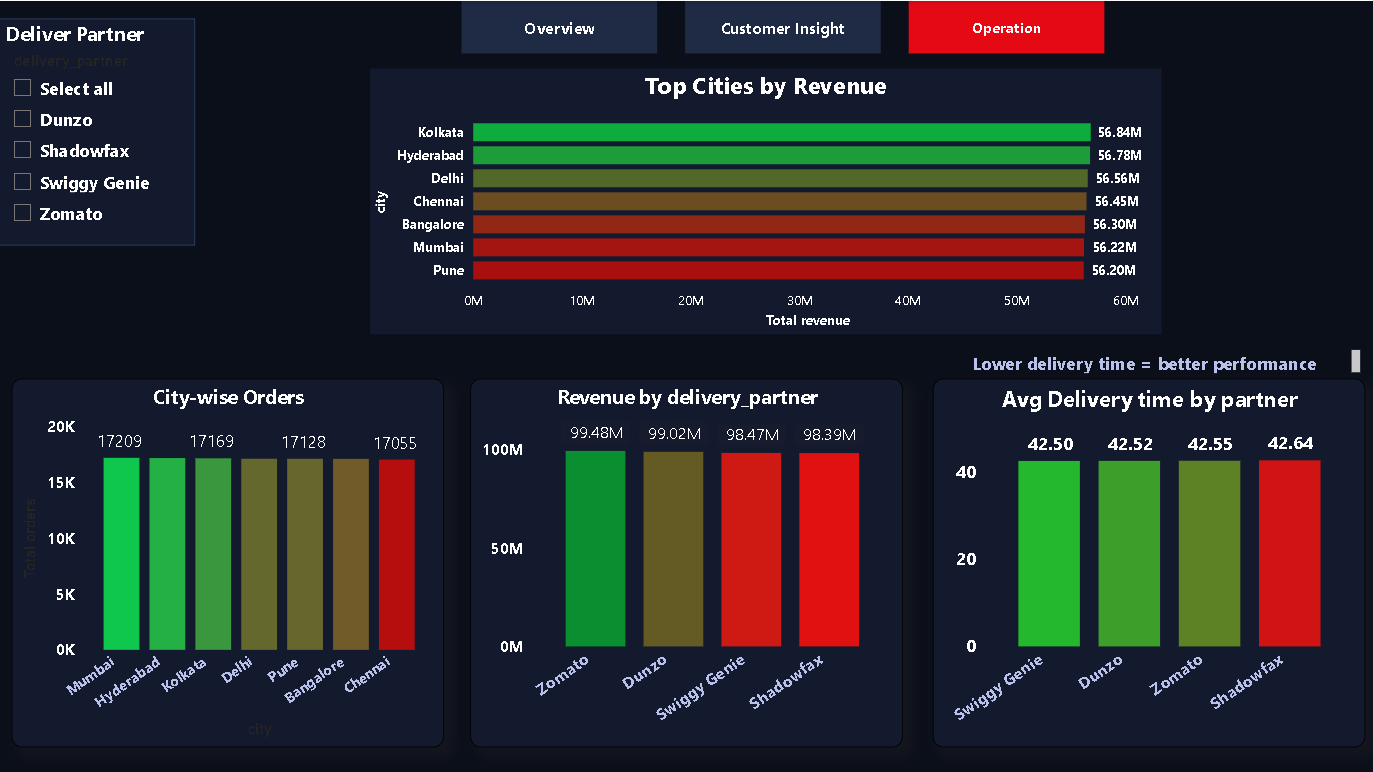

Layout of this report page (visuals, bound fields, positions):
{"tool":"powerbi","page":{"name":"Operation","canvas":[1280,720],"ordinal":2},"visuals":[{"type":"clusteredColumnChart","title":"Avg Delivery time by partner","fields":{"Category":["CleanOrders.delivery_partner"],"Y":["CleanOrders.Avg delivery"]},"box":[868.1,350.6,402.3,343.4],"z":0},{"type":"textbox","box":[868.1,319.4,402.3,31.2],"z":1000},{"type":"clusteredColumnChart","title":"Revenue by delivery_partner","fields":{"Category":["CleanOrders.delivery_partner"],"Y":["CleanOrders.Total revenue"]},"box":[438.3,350.6,402.3,343.4],"z":2000},{"type":"clusteredColumnChart","title":"City-wise Orders","fields":{"Category":["CleanOrders.city"],"Y":["CleanOrders.Total orders"]},"box":[12,350.6,402.3,343.4],"z":3000},{"type":"slicer","title":"Deliver Partner","fields":{"Values":["CleanOrders.delivery_partner"]},"box":[0,16.8,182.5,211.3],"z":4000},{"type":"pageNavigator","box":[429.9,0,599.2,49.2],"z":5000},{"type":"barChart","title":"Top Cities by Revenue","fields":{"Category":["CleanOrders.city"],"Y":["CleanOrders.Total revenue"]},"box":[345.8,62.4,736.1,247.4],"z":9000}]}

Visuals, with their boxes in screenshot pixels (x1, y1, x2, y2), scaled from the page's 1280x720 canvas onto the 1373x772 screenshot:
"Avg Delivery time by partner" clusteredColumnChart: 931/376/1363/744
textbox: 931/342/1363/376
"Revenue by delivery_partner" clusteredColumnChart: 470/376/902/744
"City-wise Orders" clusteredColumnChart: 13/376/444/744
"Deliver Partner" slicer: 0/18/196/245
pageNavigator: 461/0/1104/53
"Top Cities by Revenue" barChart: 371/67/1161/332
